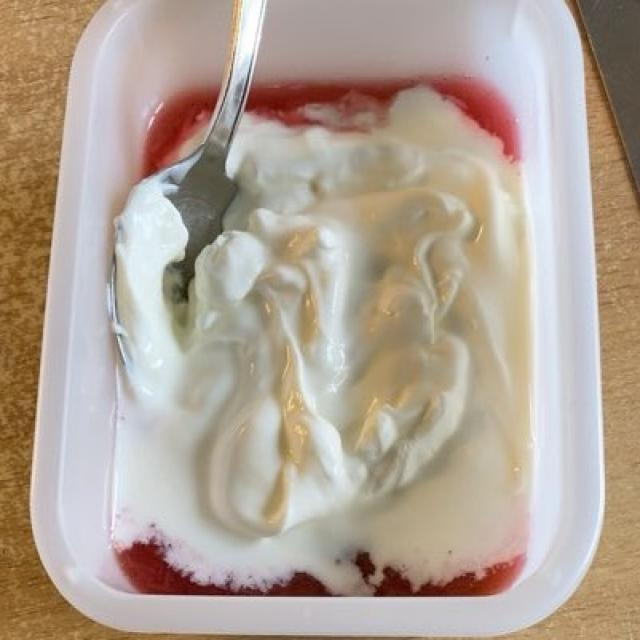yogurt: (113, 84, 532, 593)
